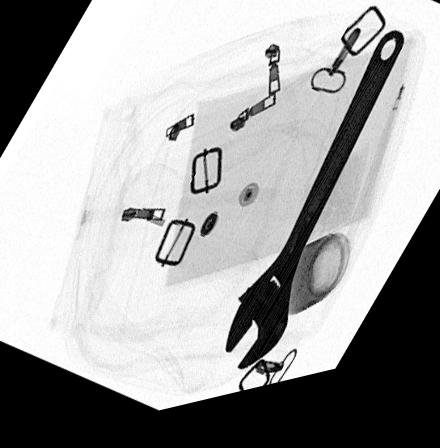Wrench: (223, 47, 408, 381)
